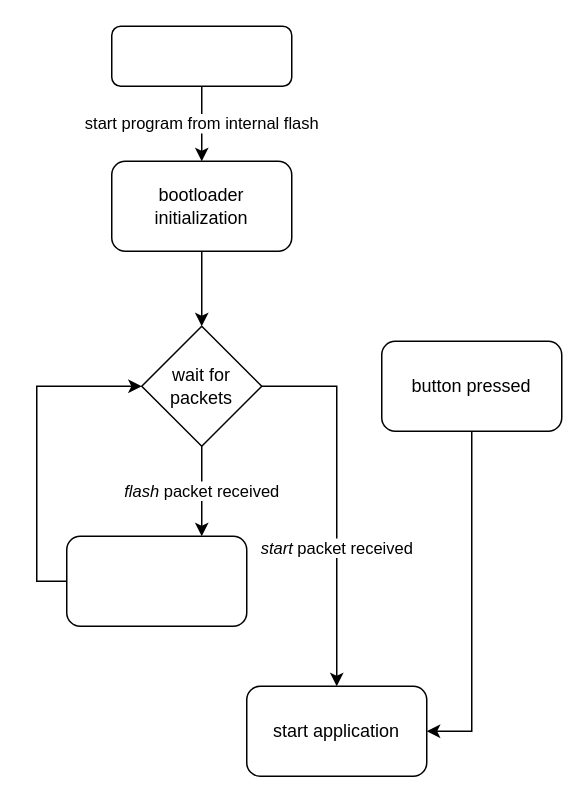
The diagram is 588 pixels wide and 803 high, and some of its shapes have lost their labels. Here are the shapes that lost their labels. From the top down, the centre of each, then its label:
At pixel 201 55: "reset".
At pixel 156 580: "program Quad-SPI flash memory".
